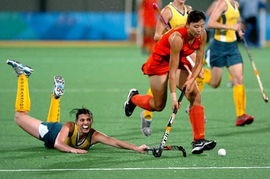falling: (7, 56, 153, 156)
